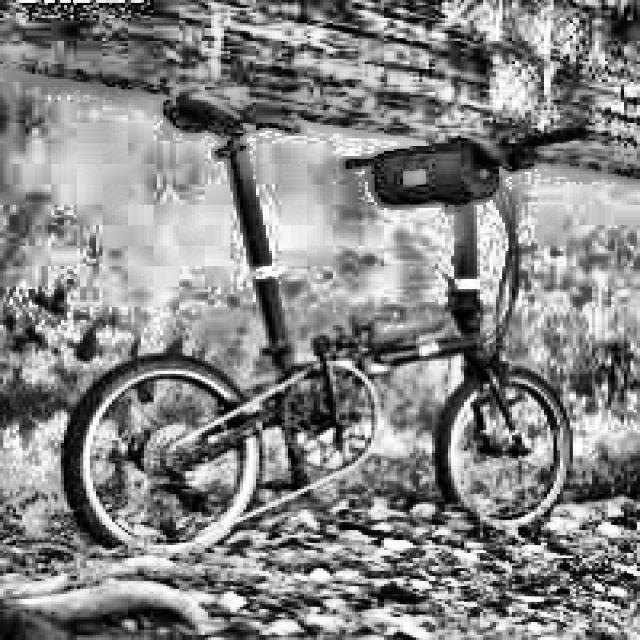motorcycle: (70, 83, 578, 560)
